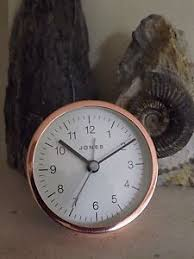alarm_clock: (22, 97, 158, 234), (29, 97, 158, 234), (29, 106, 158, 234), (29, 106, 156, 234), (29, 106, 154, 234)
